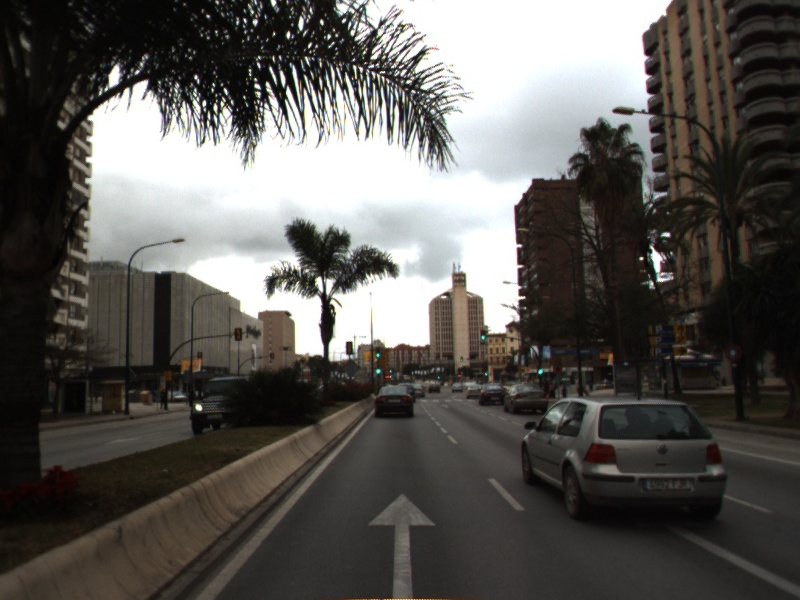STRAIGHT: (363, 489, 441, 600)
